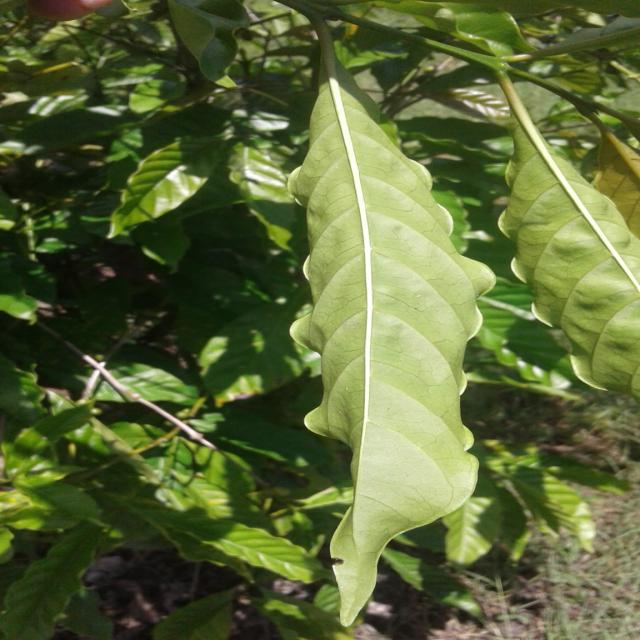Sanas: (304, 25, 497, 626)
